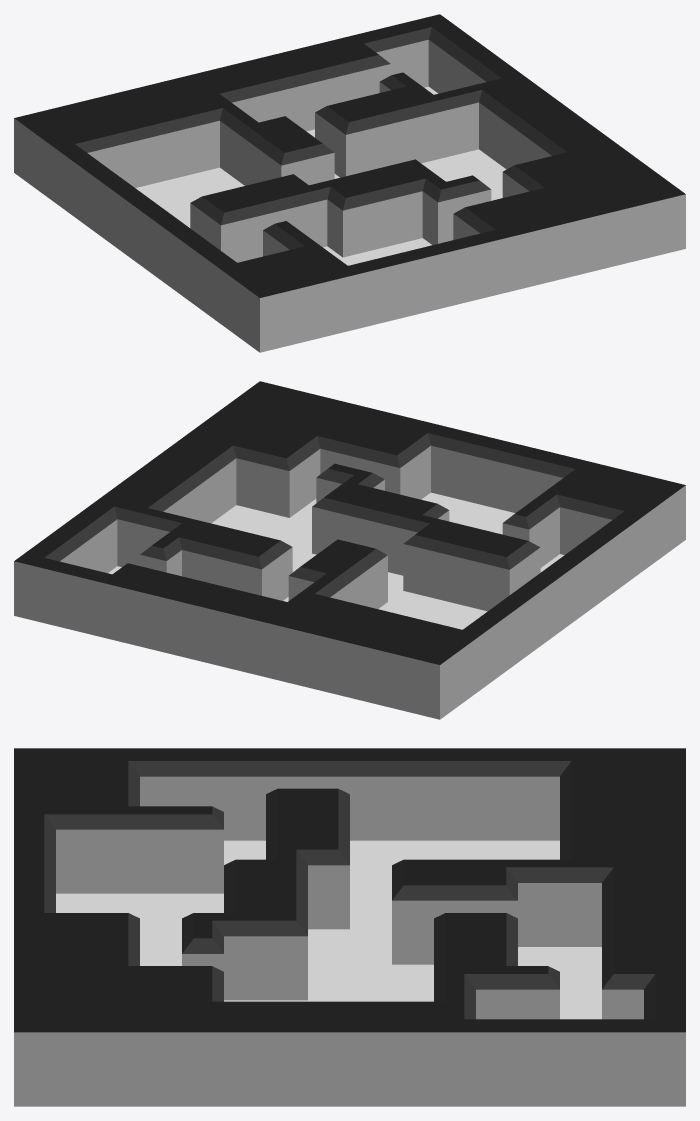
Rendered from lv3Teen.fbx.
The picture shows the model from 3 angles, top to bottom: view 1: azimuth 30°, elevation 25°; view 2: azimuth 150°, elevation 25°; view 3: azimuth 270°, elevation 25°; orthographic projection. The views are drawn at different scales.
Parts seen in each view (by area): view 1: lvl3Teen; view 2: lvl3Teen; view 3: lvl3Teen.
Boxes of the visible parts, box(x1,y1,x2,y2) form: lvl3Teen: box(14, 14, 685, 352); lvl3Teen: box(14, 381, 685, 719); lvl3Teen: box(14, 748, 685, 1106).
Size of the model in its own units: 2448 by 300 by 2448.
